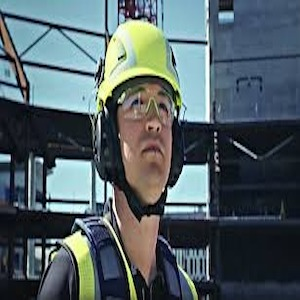safety: (97, 20, 183, 103)
